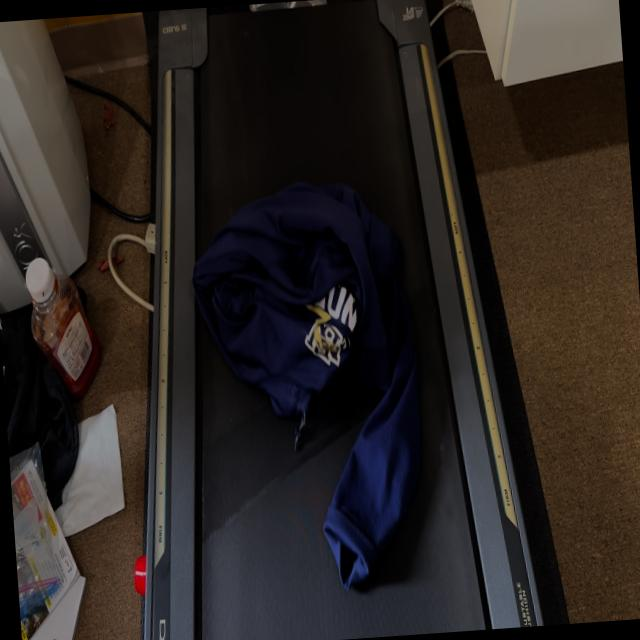Trash: (182, 170, 444, 604)
